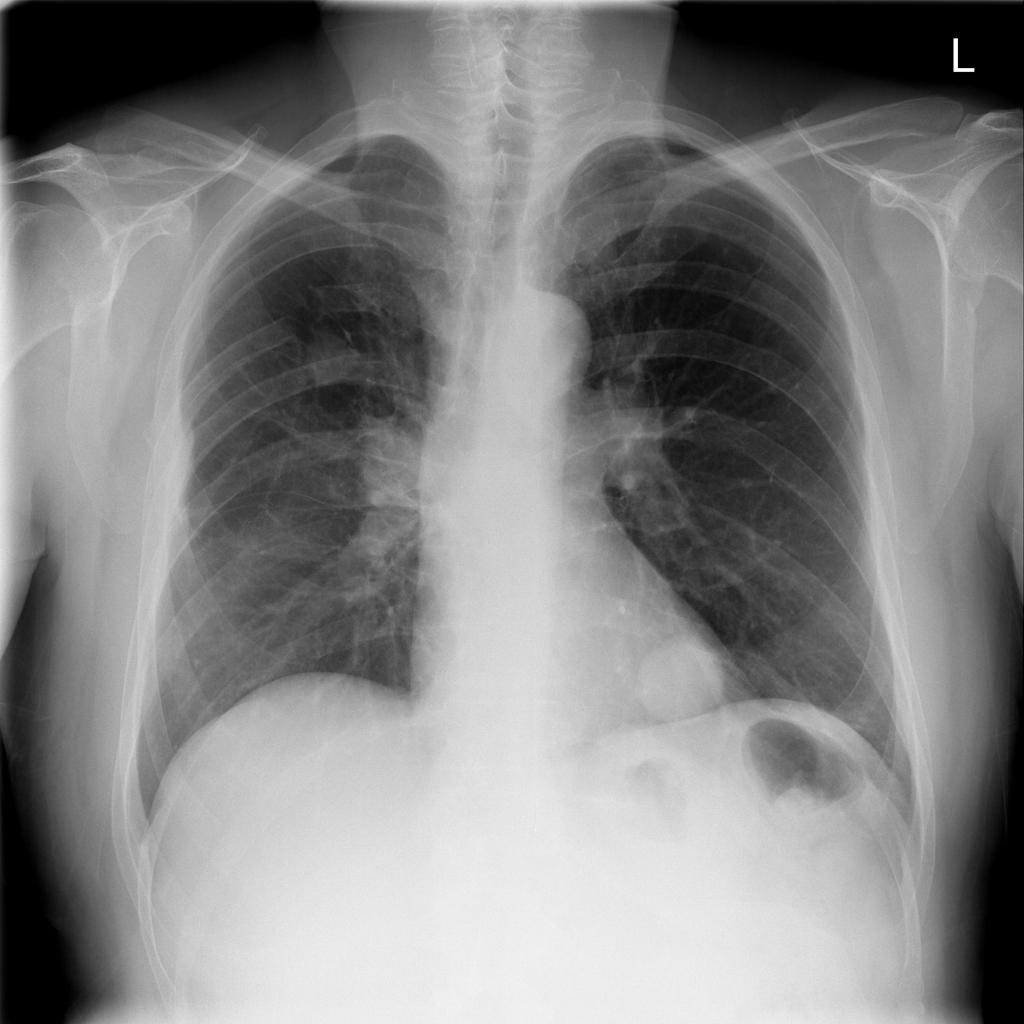nodule: (624, 621, 735, 735), (292, 320, 372, 400)
